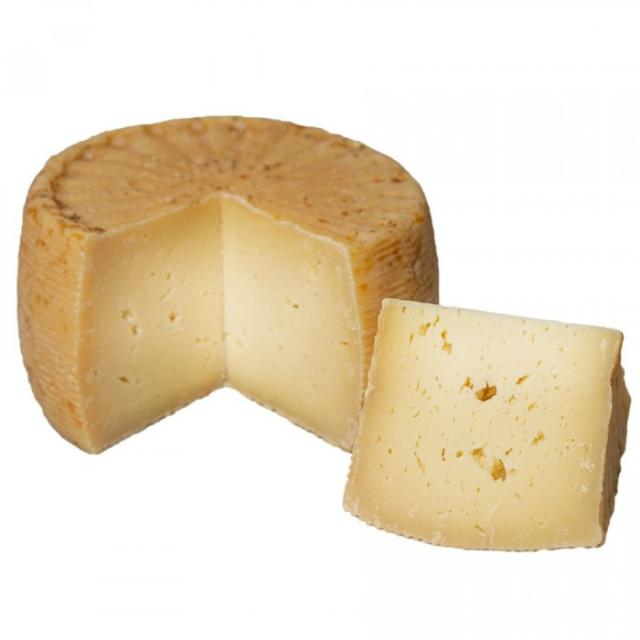Cheese: (13, 107, 460, 478), (346, 278, 629, 568)
